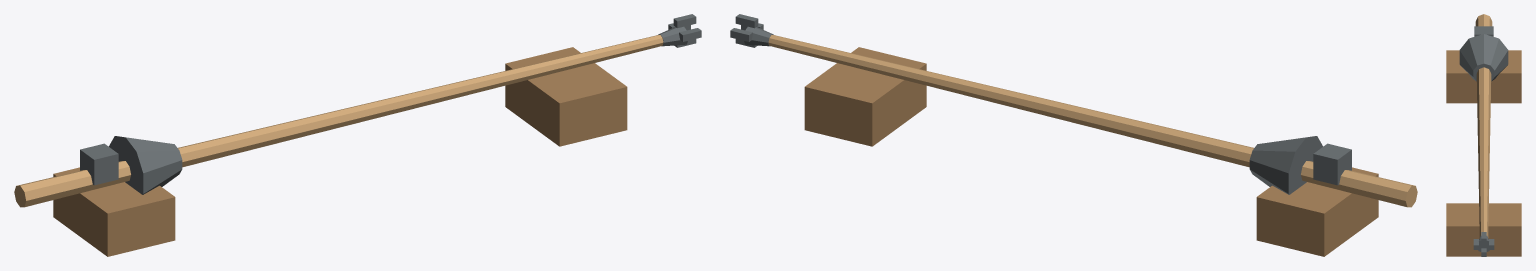
The model's file is lance-whole.glb.
The picture shows the model from 3 angles, left to right: view 1: azimuth 30°, elevation 25°; view 2: azimuth 150°, elevation 25°; view 3: azimuth 270°, elevation 25°; orthographic projection. The views are drawn at different scales.
Visible parts, largest first — view 1: lance-whole; view 2: lance-whole; view 3: lance-whole.
Part boxes in pixels (bbox=[...]): lance-whole: bbox=[14, 14, 701, 256]; lance-whole: bbox=[730, 14, 1417, 256]; lance-whole: bbox=[1446, 14, 1521, 256].
Bounding box in the file's own units: 3.58 × 0.4501 × 0.5.
